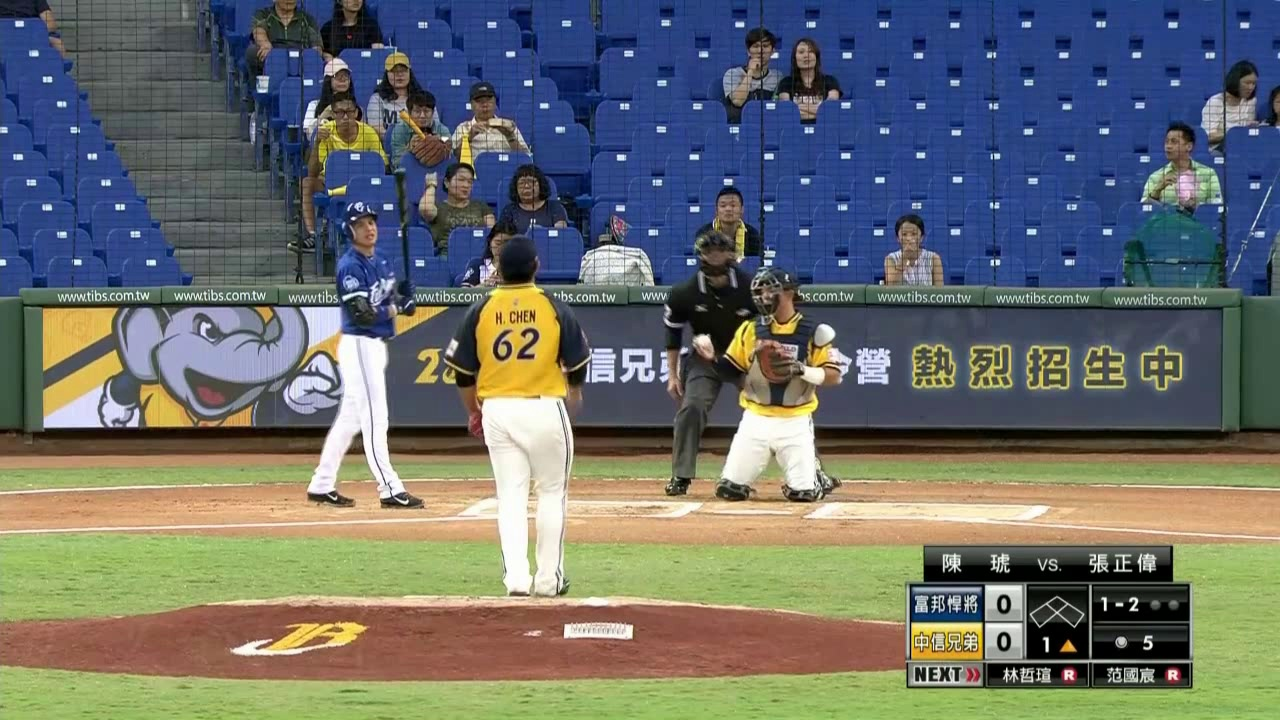ball: (697, 336, 710, 344)
base: (1027, 589, 1087, 633)
bat: (396, 171, 411, 297)
out: (1145, 588, 1186, 618)
score1: (987, 587, 1021, 624)
score2: (983, 627, 1021, 663)
session: (1027, 633, 1087, 660)
strikeball: (1095, 590, 1144, 619)
total: (1106, 629, 1158, 659)
